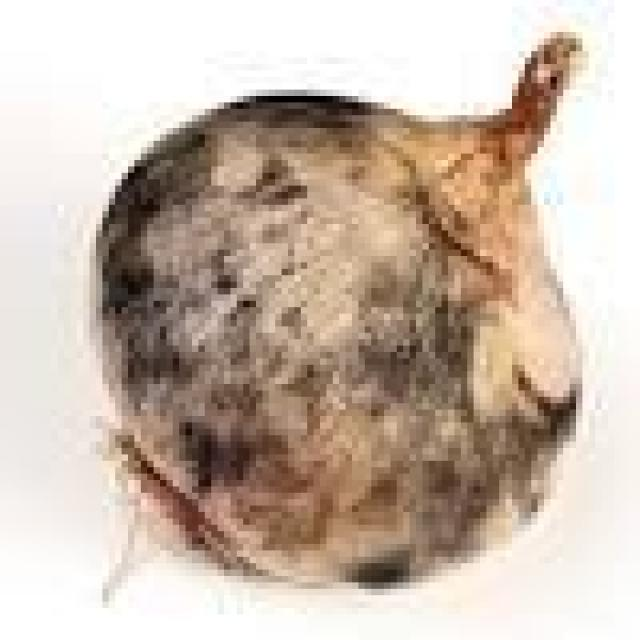Onion: (70, 32, 589, 602)
